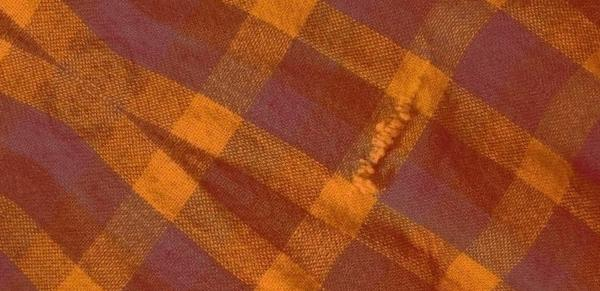knot: (347, 56, 443, 200)
